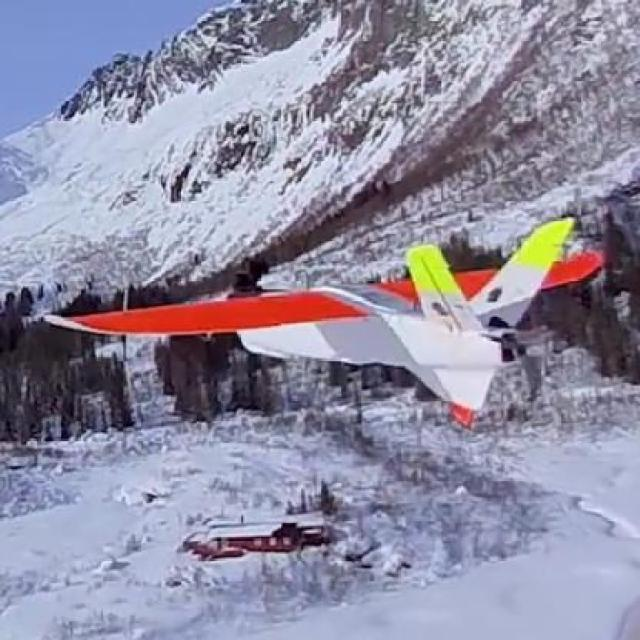iha: (24, 203, 578, 435)
